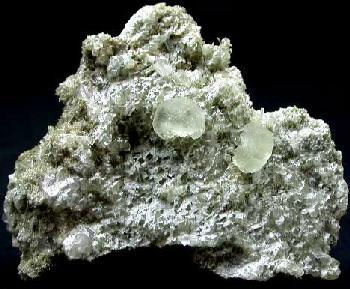calcite: (153, 97, 206, 140), (233, 122, 274, 174)
